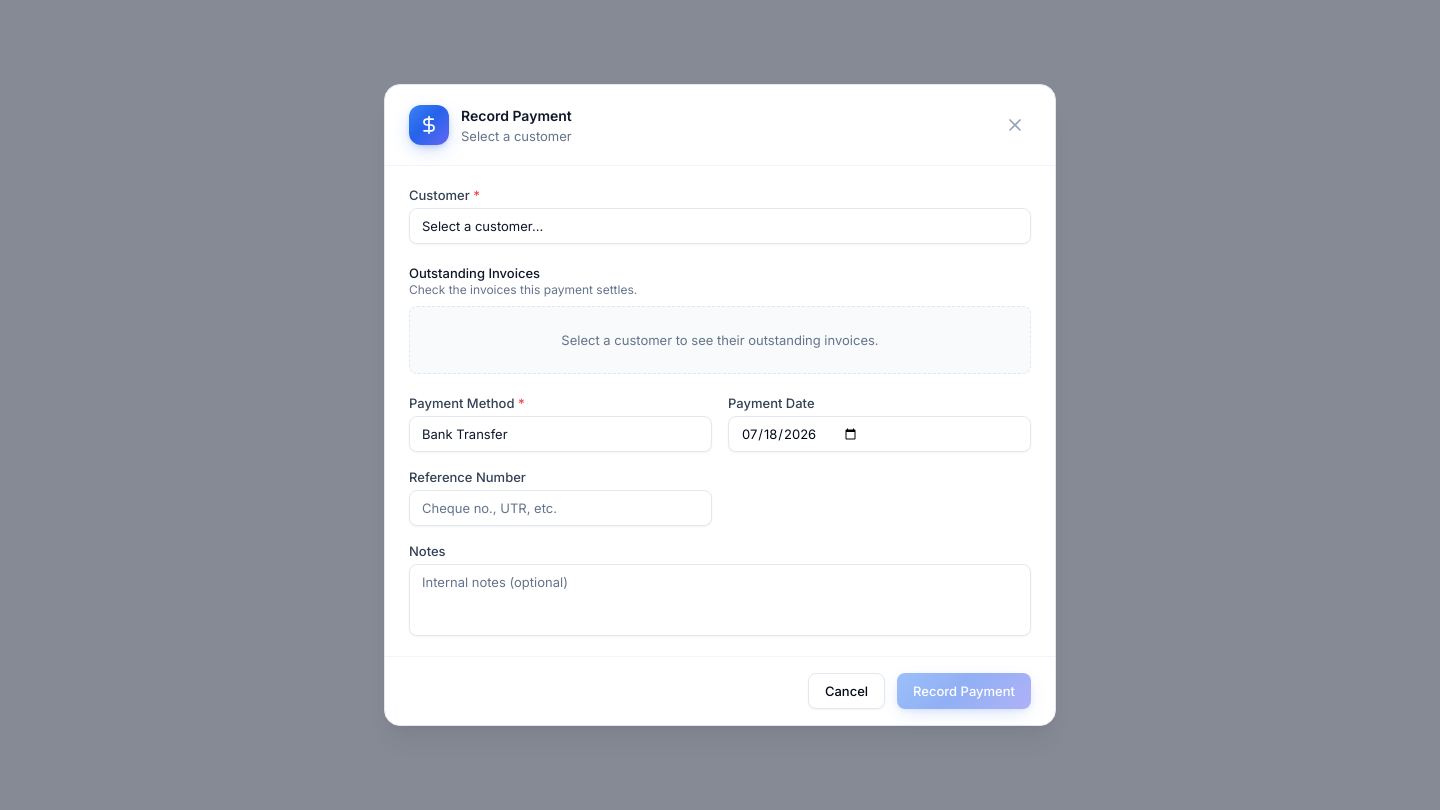
Test: RecordCustomerPaymentDialog › shows a party picker and loads outstanding invoices on selection
The width and height of the screenshot is (1440, 810).
Expected: the text "Select a customer to see their outstanding invoices." is shown, [409,306,1031,374]
Select "Acme Traders" in the dropdown labelled "Customer *": (720, 226) [409,208,1031,244]
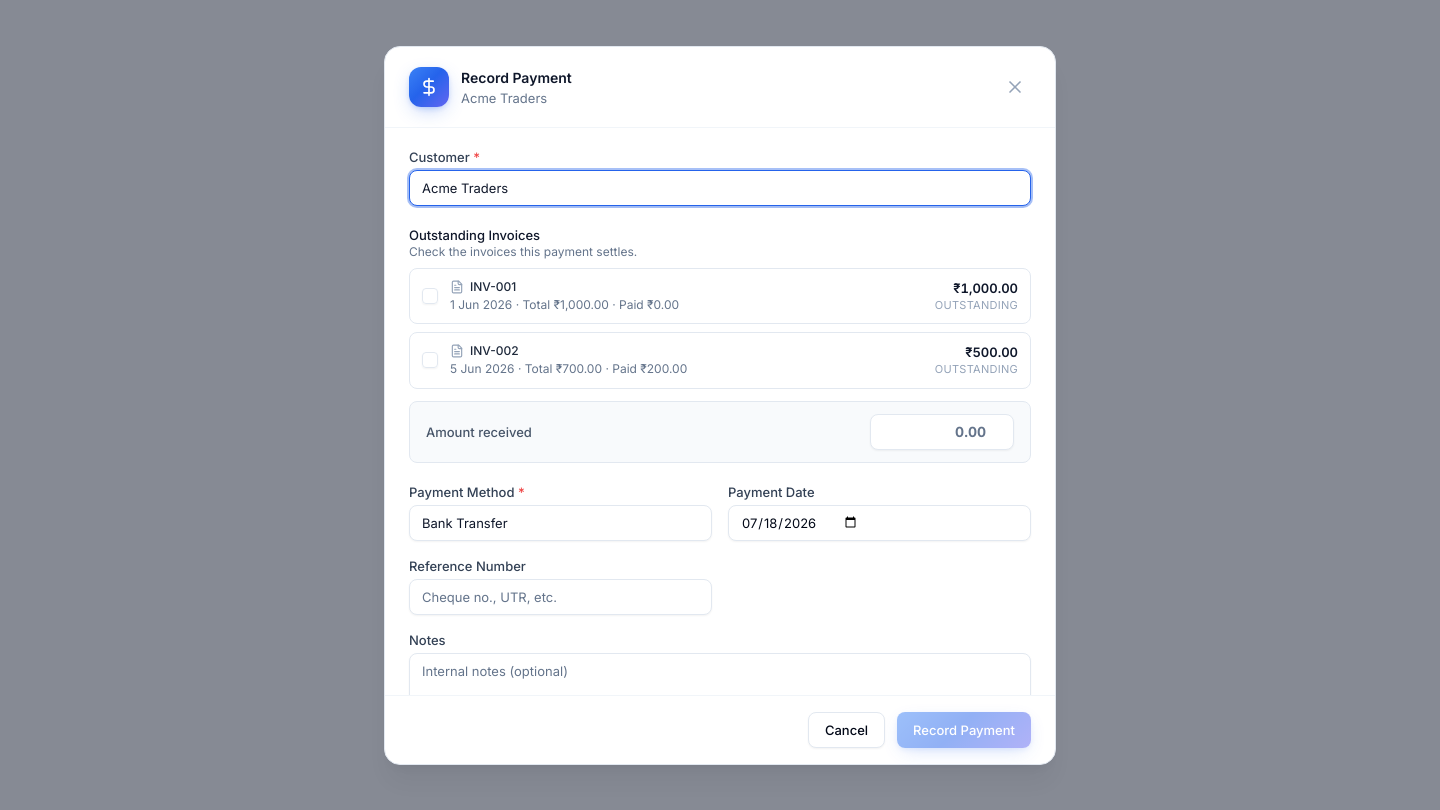
Expected: the text "INV-001" is shown, [450,279,516,294]
Expected: the text "INV-002" is shown, [450,343,519,358]
